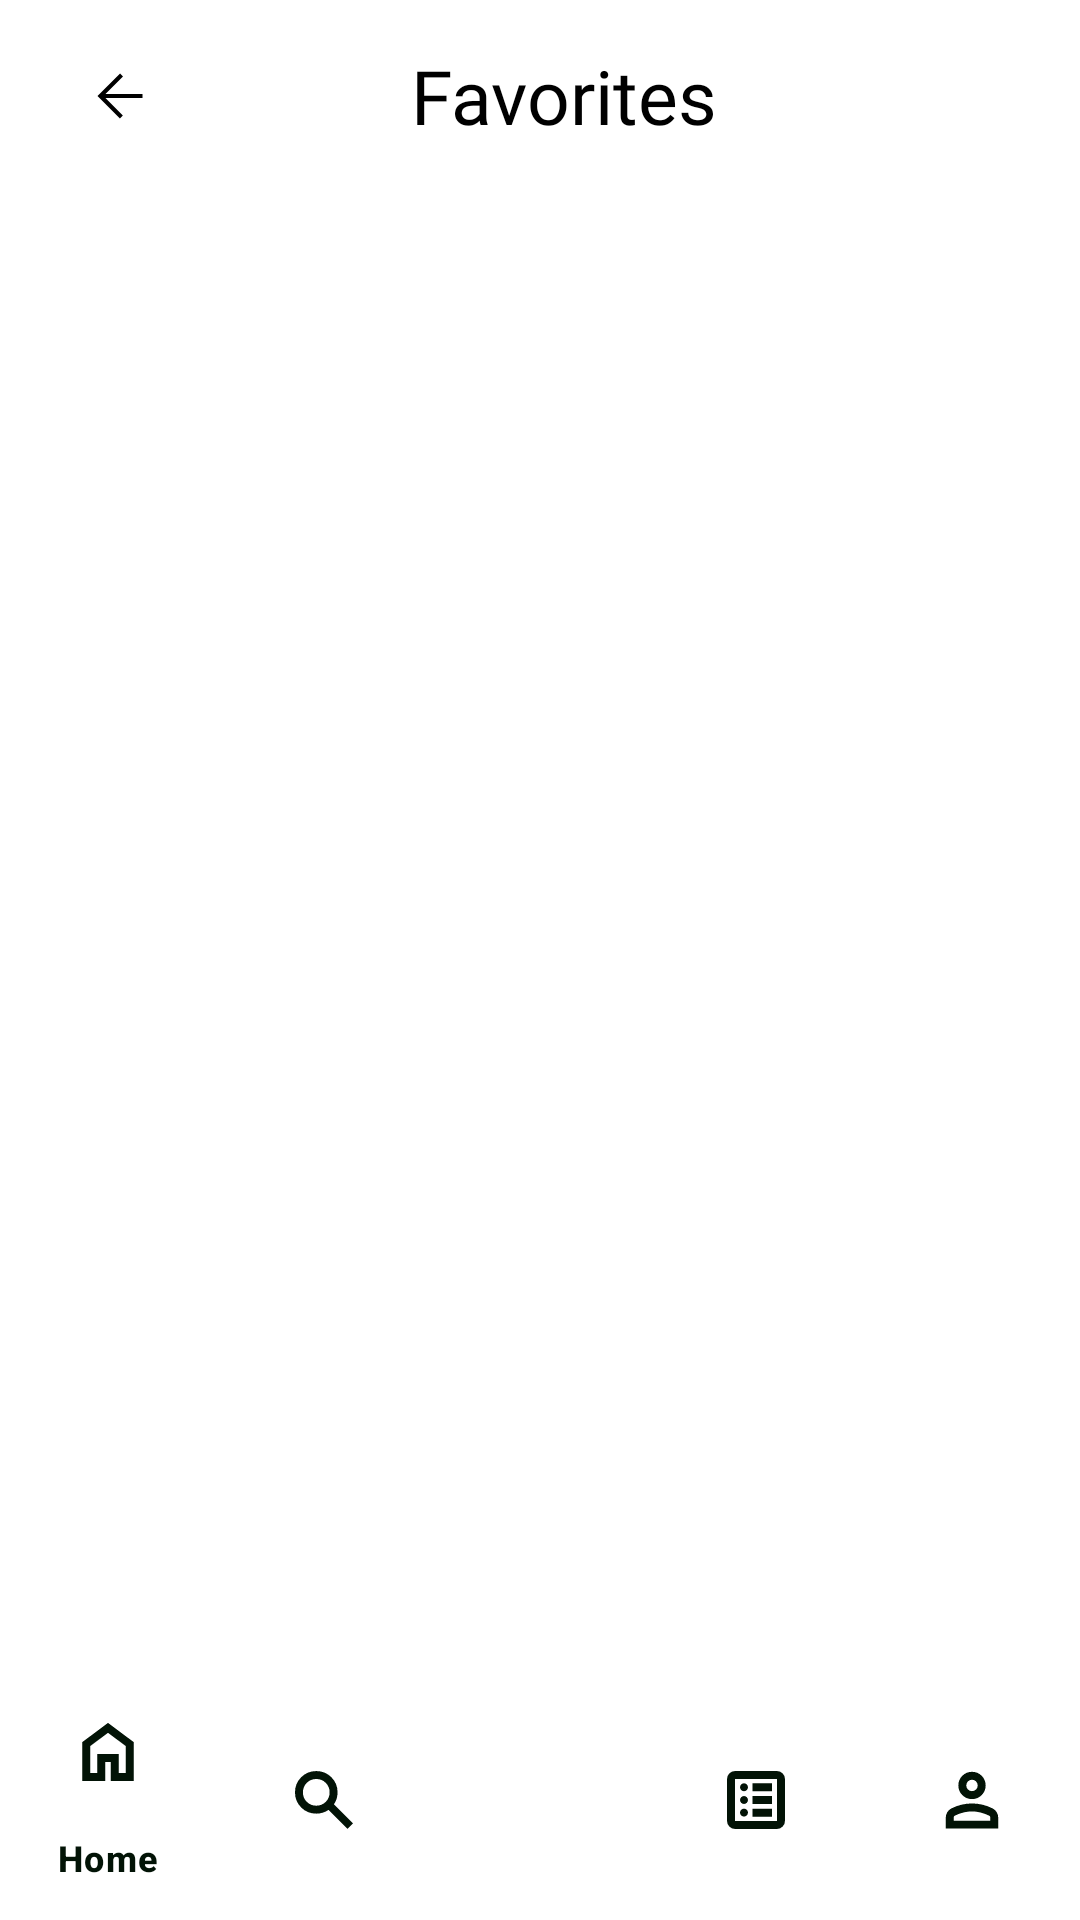

Where icons sit on this 1080 x 1920 app screen, as Rect(x1, y1, x2, y2):
arrow back: Rect(97, 73, 143, 119)
